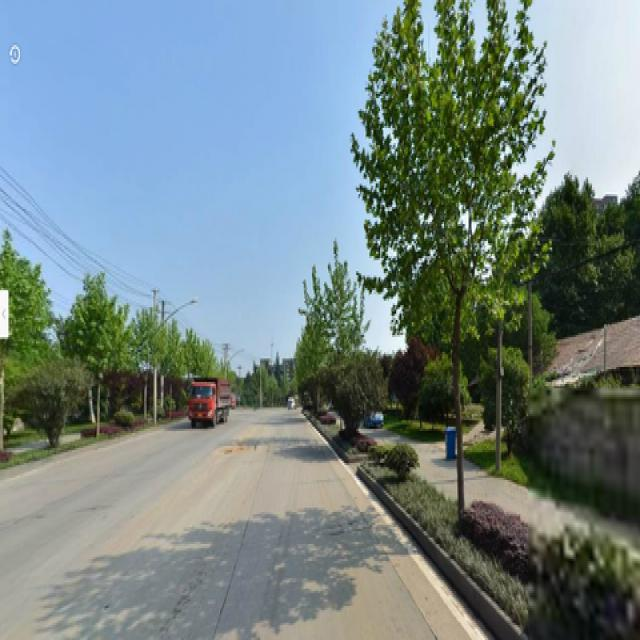meta: (363, 11, 544, 503)
